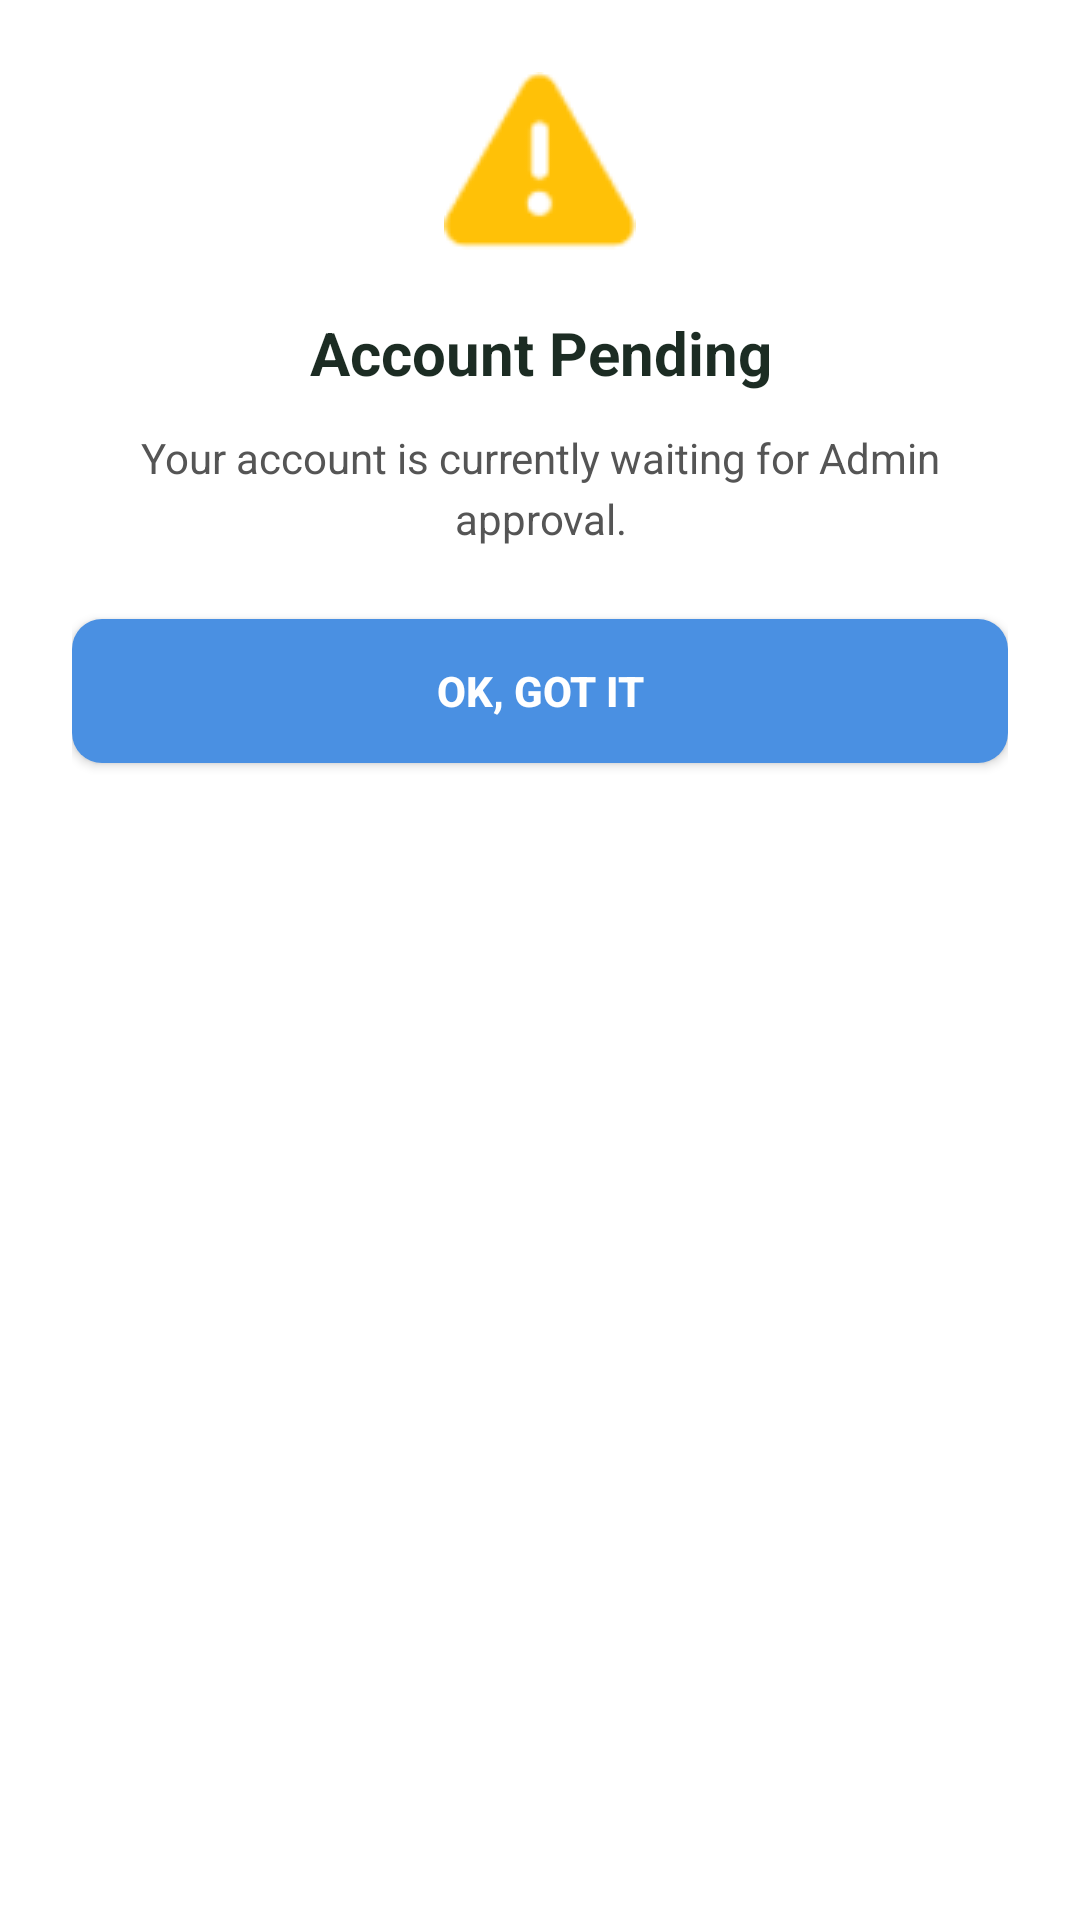

Icon bounding boxes for this 1080*1920 phone screenshot, format {"x1": x1, "y1": y1, "x2": x2, "y2": y2}:
Alert Icon: {"x1": 444, "y1": 72, "x2": 636, "y2": 247}
